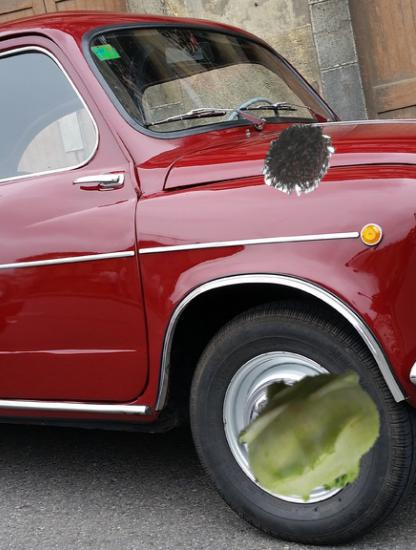Kohlrabi: (236, 359, 386, 509)
Rambutan: (263, 122, 337, 196)
